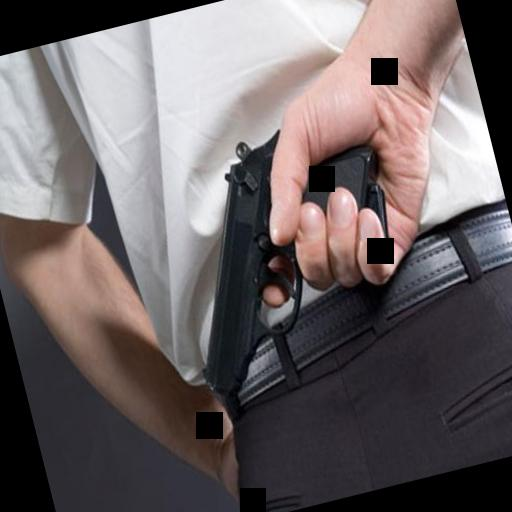Handgun: (143, 100, 429, 406)
